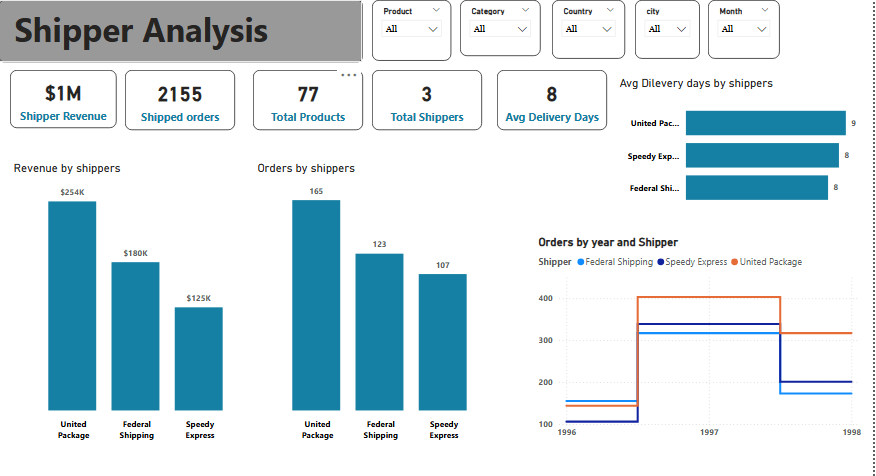

What the dashboard file says about the page in this screenshot:
{"tool":"powerbi","page":{"name":"Shipper Analysis","canvas":[1280,720],"ordinal":4},"visuals":[{"type":"card","fields":{"Values":["-Measures.Total orders"]},"box":[184.7,118.1,161.1,87.5],"z":0},{"type":"card","fields":{"Values":["-Measures.Total Revenue"]},"box":[16.7,118.1,155.6,84.7],"z":1},{"type":"card","fields":{"Values":["-Measures.Total Products"]},"box":[371.4,117.9,160.7,87.5],"z":2},{"type":"card","fields":{"Values":["-Measures.Total Shippers"]},"box":[546.4,117.9,160.7,87.5],"z":3},{"type":"clusteredColumnChart","title":"Revenue by shippers","fields":{"Y":["-Measures.Revenue"],"Category":["dim_shippers.company_name"]},"box":[16.1,251.8,357.1,416.1],"z":4},{"type":"clusteredColumnChart","title":"Orders by shippers","fields":{"Category":["dim_shippers.company_name"],"Y":["-Measures.Total orders"]},"box":[373.2,251.8,357.1,416.1],"z":5},{"type":"card","fields":{"Values":["-Measures.Avg Delivery Days"]},"box":[728.6,117.9,160.7,87.5],"z":6},{"type":"barChart","title":"Avg Dilevery days by shippers","fields":{"Category":["dim_shippers.company_name"],"Y":["-Measures.Avg Delivery Days"]},"box":[903.6,126.8,357.1,207.1],"z":7},{"type":"lineChart","title":"Orders by year and Shipper","fields":{"Y":["-Measures.Total orders"],"Category":["dim_date.year"],"Series":["dim_shippers.company_name"]},"box":[783.9,360.7,482.1,307.1],"z":8},{"type":"slicer","fields":{"Values":["dim_date.month_name"]},"box":[1037.5,16.1,105.4,85.7],"z":9},{"type":"slicer","fields":{"Values":["dim_customers.country"]},"box":[808.9,16.1,107.1,85.7],"z":10},{"type":"slicer","fields":{"Values":["dim_products.product_name"]},"box":[546.4,16.1,116.1,89.3],"z":11},{"type":"slicer","fields":{"Values":["dim_employees.city"]},"box":[930.4,16.1,94.6,85.7],"z":12},{"type":"textbox","box":[0,15.7,531.9,90.7],"z":13},{"type":"slicer","fields":{"Values":["dim_category.description"]},"box":[675,16.1,117.9,82.1],"z":14}]}

Visuals, with their boxes on the page's 1280x720 design canvas (x1, y1, x2, y2). These are canvas units, not pixel positions in the 876x476 screenshot, which may show the page scaled, cropped or inside an application window:
card - -Measures.Total orders: (x1=185, y1=118, x2=346, y2=206)
card - -Measures.Total Revenue: (x1=17, y1=118, x2=172, y2=203)
card - -Measures.Total Products: (x1=371, y1=118, x2=532, y2=205)
card - -Measures.Total Shippers: (x1=546, y1=118, x2=707, y2=205)
"Revenue by shippers" clusteredColumnChart: (x1=16, y1=252, x2=373, y2=668)
"Orders by shippers" clusteredColumnChart: (x1=373, y1=252, x2=730, y2=668)
card - -Measures.Avg Delivery Days: (x1=729, y1=118, x2=889, y2=205)
"Avg Dilevery days by shippers" barChart: (x1=904, y1=127, x2=1261, y2=334)
"Orders by year and Shipper" lineChart: (x1=784, y1=361, x2=1266, y2=668)
slicer - dim_date.month_name: (x1=1038, y1=16, x2=1143, y2=102)
slicer - dim_customers.country: (x1=809, y1=16, x2=916, y2=102)
slicer - dim_products.product_name: (x1=546, y1=16, x2=662, y2=105)
slicer - dim_employees.city: (x1=930, y1=16, x2=1025, y2=102)
textbox: (x1=0, y1=16, x2=532, y2=106)
slicer - dim_category.description: (x1=675, y1=16, x2=793, y2=98)
